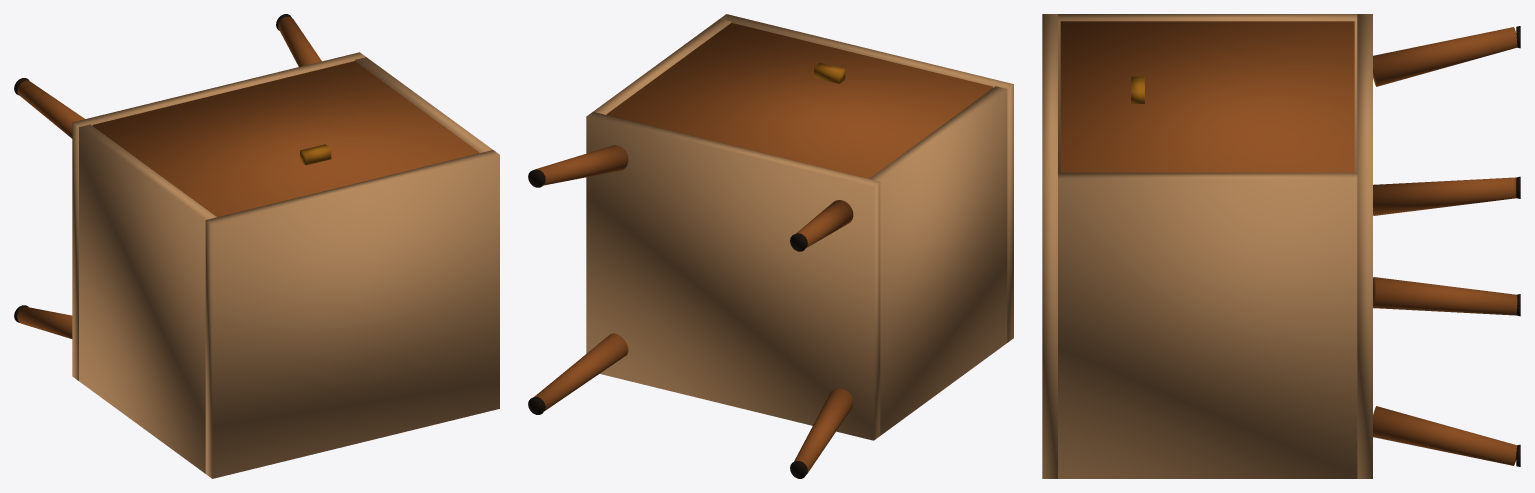
The model's file is product_01_nordic_nightstand.dae.
3 renders of one model, left to right at view 1: azimuth 30°, elevation 25°; view 2: azimuth 150°, elevation 25°; view 3: azimuth 270°, elevation 25°, orthographic. The views are drawn at different scales.
Parts seen in each view (by area): view 1: node0; view 2: node0; view 3: node0.
Part boxes in pixels (x1,y1,x2,y2): node0: (14, 14, 499, 478); node0: (528, 14, 1013, 478); node0: (1042, 14, 1520, 478).
Size of the model in its own units: 0.45 by 0.396 by 0.55.
